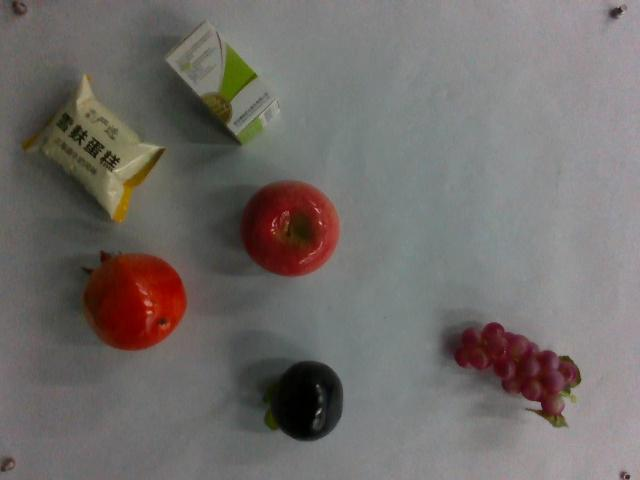apple: (243, 178, 337, 279)
carton: (166, 17, 280, 145)
dessert: (26, 75, 166, 215)
grape: (451, 315, 580, 427)
mangosteen: (263, 361, 345, 444)
pomegranate: (79, 247, 189, 351)
